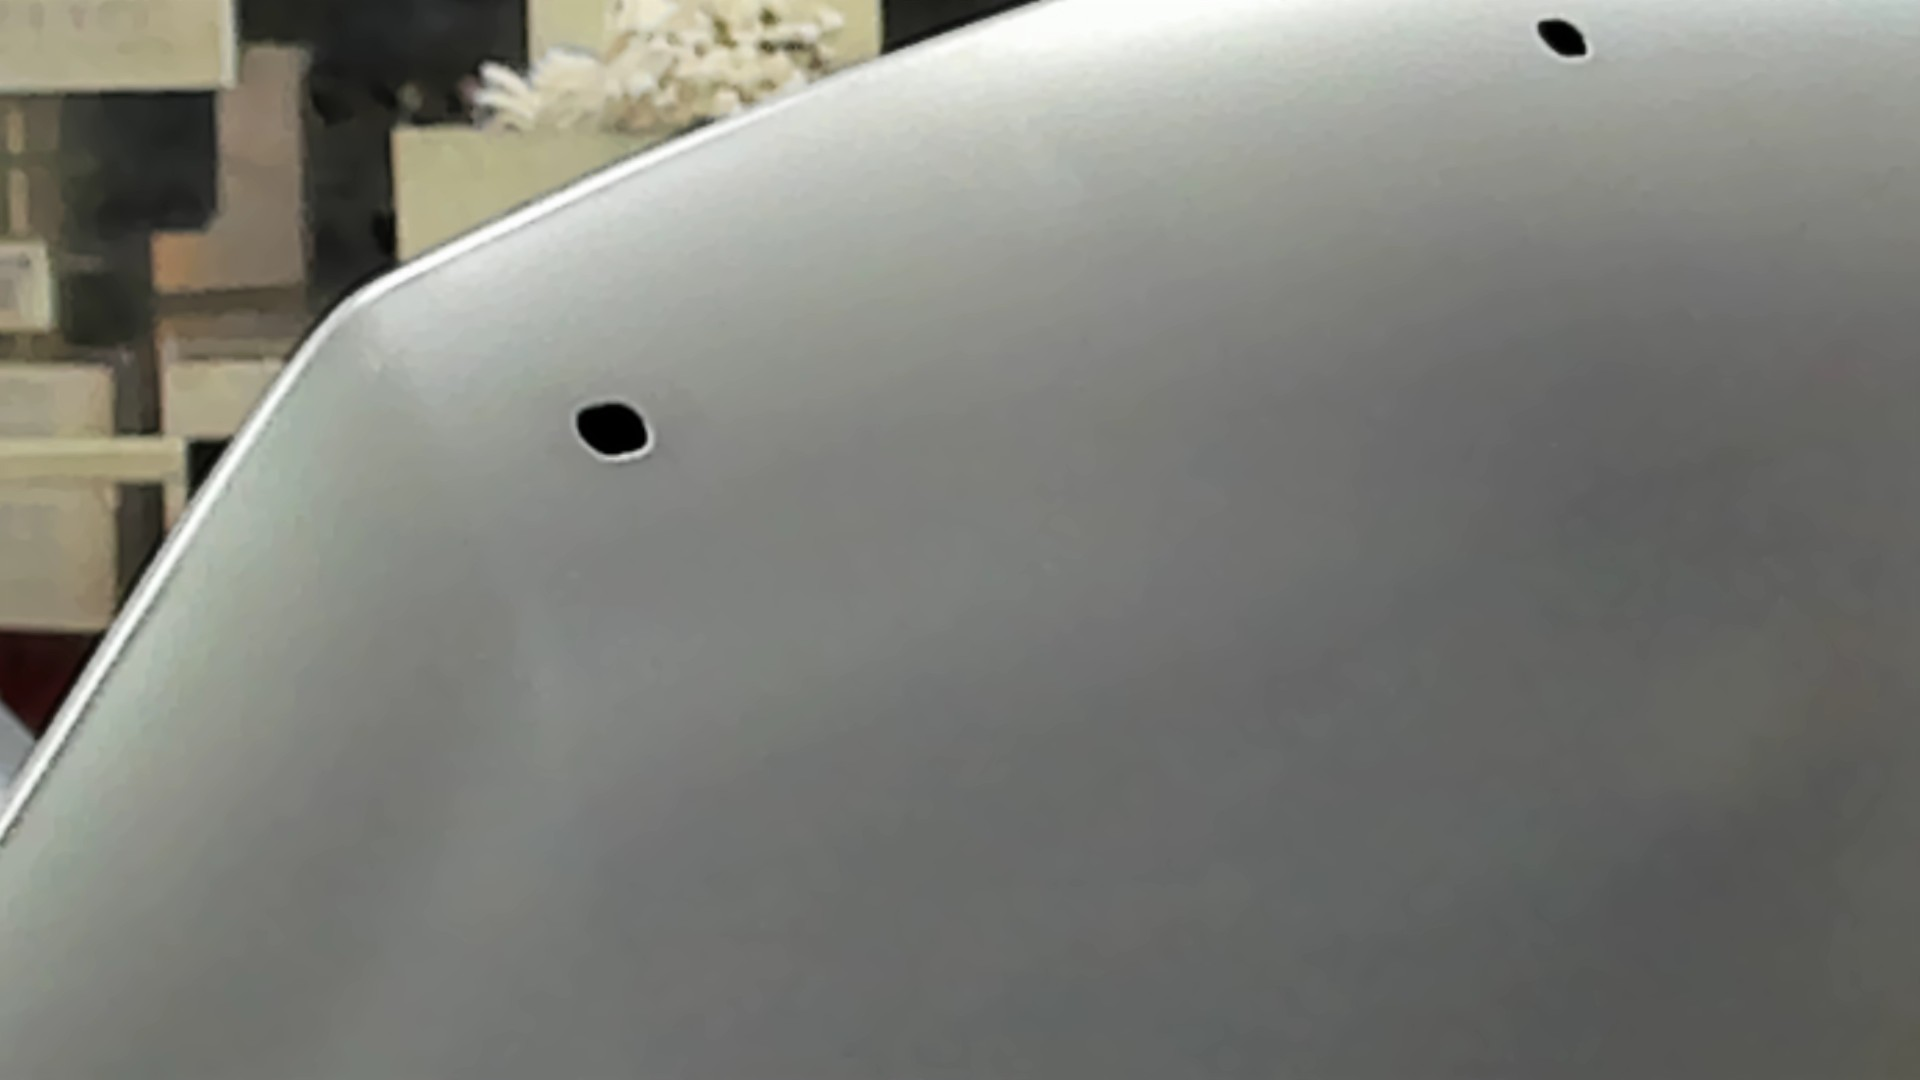amorfo: (570, 396, 655, 469), (1528, 11, 1592, 65)
